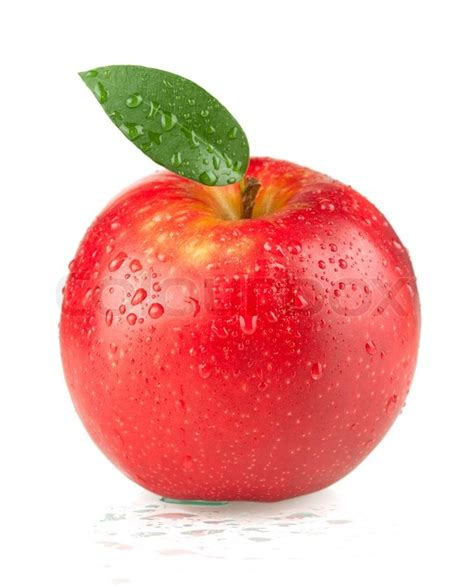apple: (54, 157, 430, 507)
